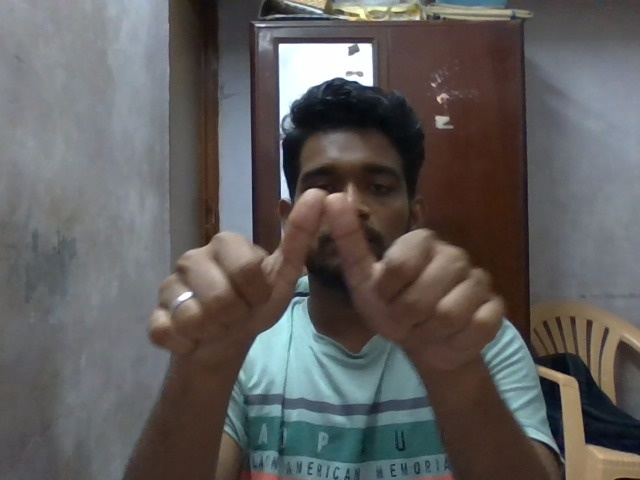A: (143, 182, 511, 396)
